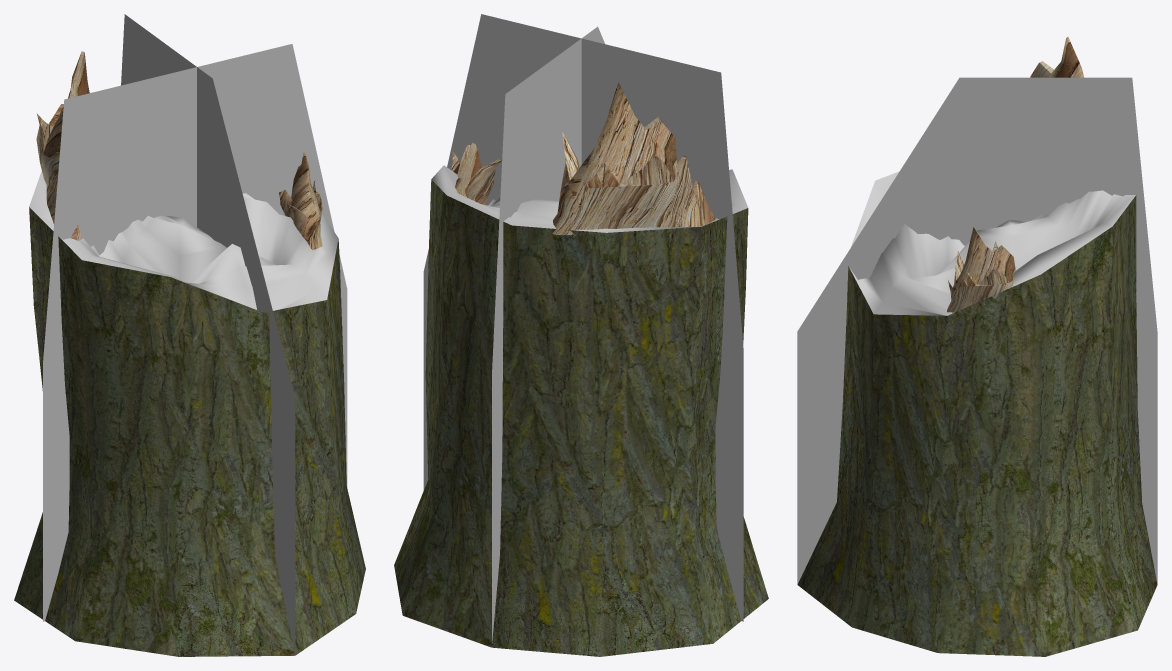
File: Stump3.fbx
3 renders of one model, left to right at view 1: azimuth 30°, elevation 25°; view 2: azimuth 150°, elevation 25°; view 3: azimuth 270°, elevation 25°, orthographic. The views are drawn at different scales.
Visible parts, largest first — view 1: LOD0, Billboard; view 2: LOD0, Billboard; view 3: LOD0, Billboard.
Boxes of the visible parts, box(x1,y1,x2,y2) form: LOD0: box(14, 51, 365, 656); Billboard: box(43, 14, 347, 655); LOD0: box(394, 82, 768, 656); Billboard: box(423, 14, 743, 643); LOD0: box(797, 36, 1157, 656); Billboard: box(797, 77, 1157, 584).
Size of what is drawn, in the model's own units: 69.24 by 114 by 72.28.
